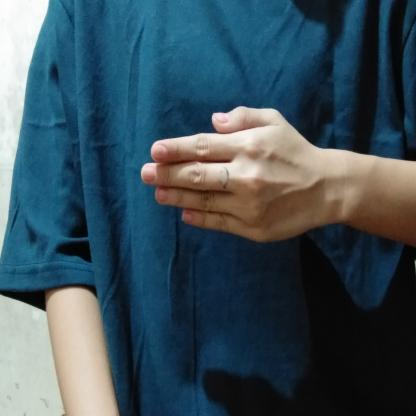ready: (130, 99, 375, 248)
